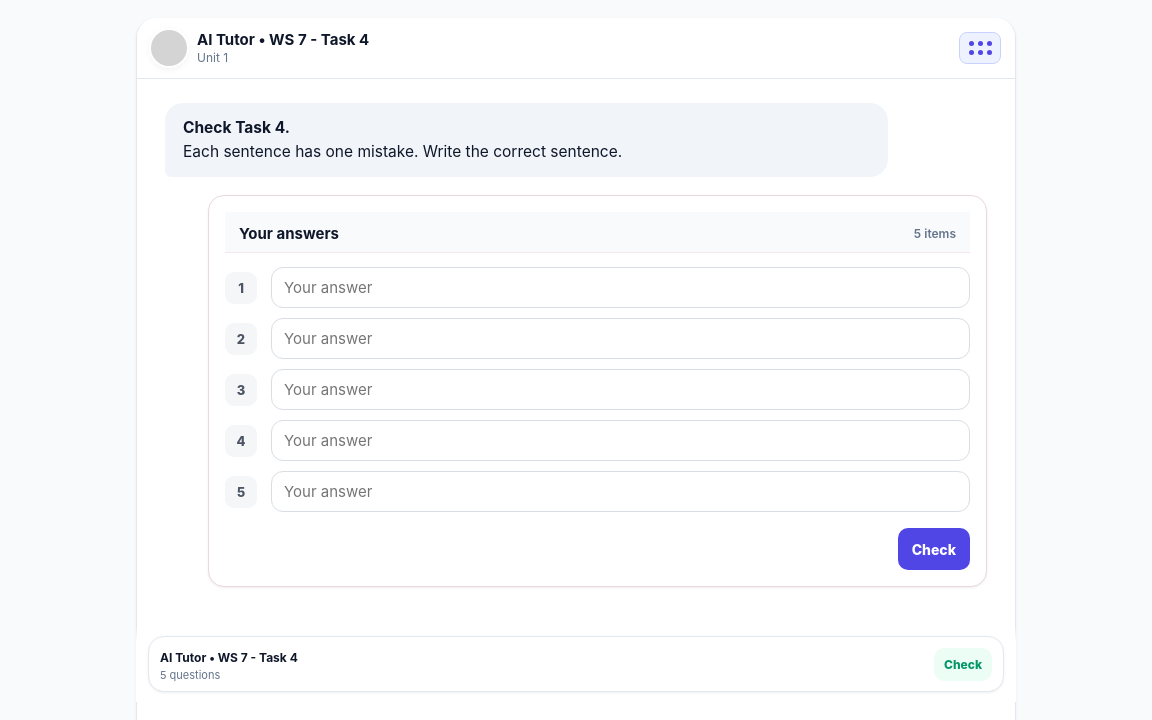
Test: Form 2 Fill rendering and letter/word answer support › grades Task 60174 correctly with punctuation, smart quotes, and time formats
This screenshot has width=1152, height=720.
Type "our lessons start at 7:15" into the 1st field with placeholder "Your answer".
click(620, 288); type("our lessons start at 7:15")  # box [271, 267, 970, 308]
(page scrolled)
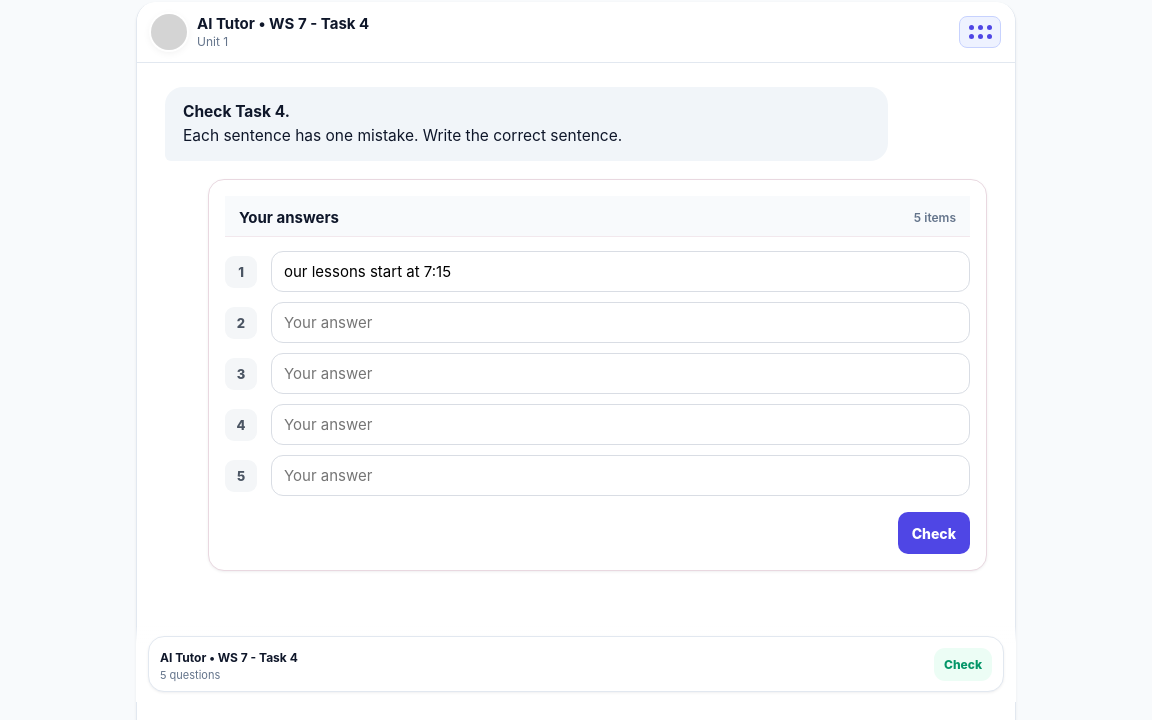
Type "Linh doesn’t go to school by bus" into the 1st field with placeholder "Your answer".
click(620, 322); type("Linh doesn’t go to school by bus")  # box [271, 302, 970, 343]
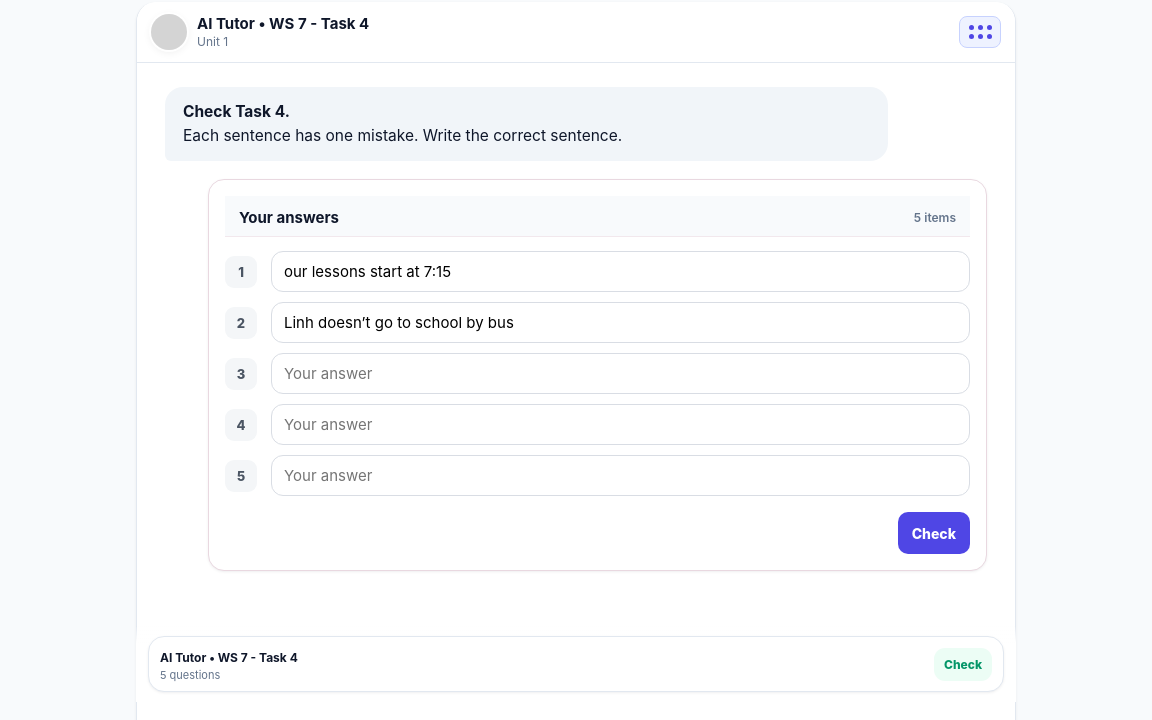
Type "Does Tom join the art club on Friday" into the 1st field with placeholder "Your answer".
click(620, 374); type("Does Tom join the art club on Friday")  # box [271, 353, 970, 394]
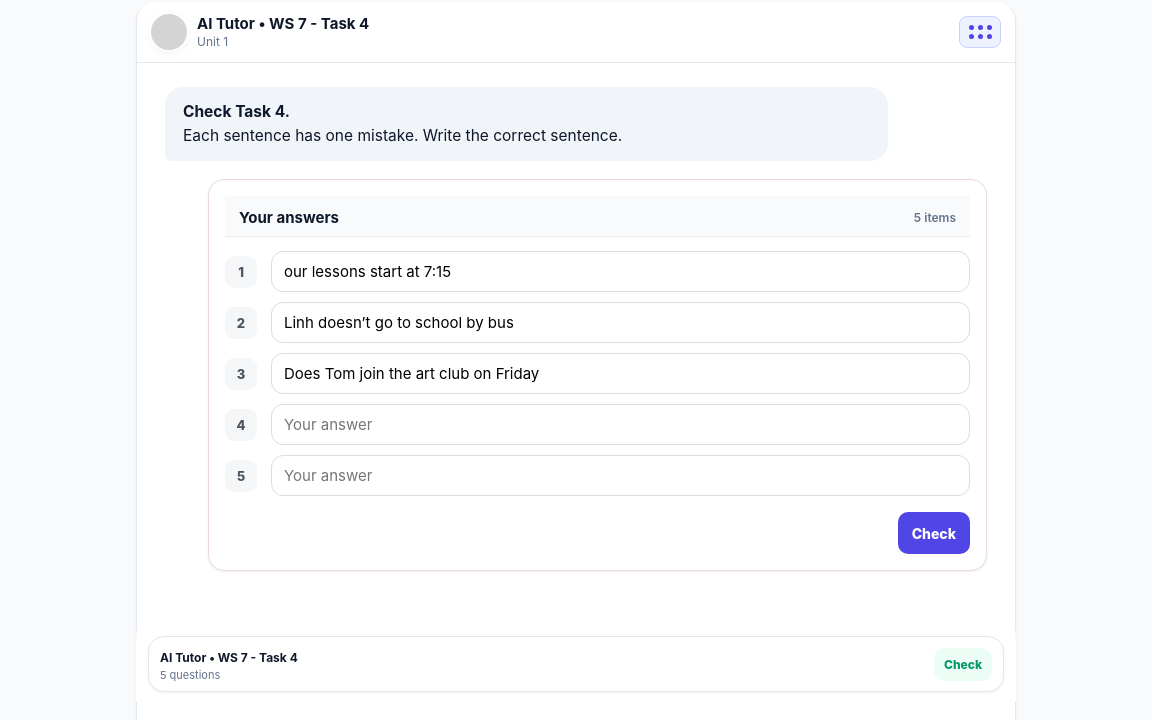
Type "  students  usually have lunch at school.  " into the 1st field with placeholder "Your answer".
click(620, 424); type("  students  usually have lunch at school.  ")  # box [271, 404, 970, 445]
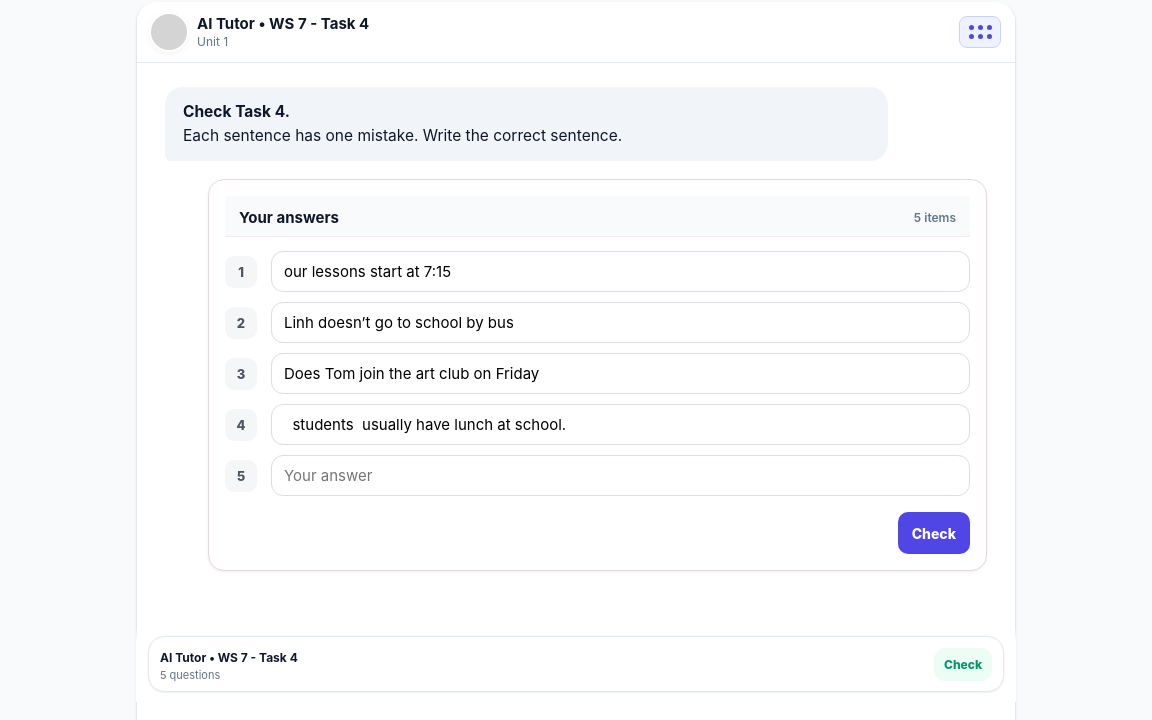
Type "The first lesson finishes at 8:15." into the field with placeholder "Your answer".
click(620, 476); type("The first lesson finishes at 8:15.")  # box [271, 455, 970, 496]
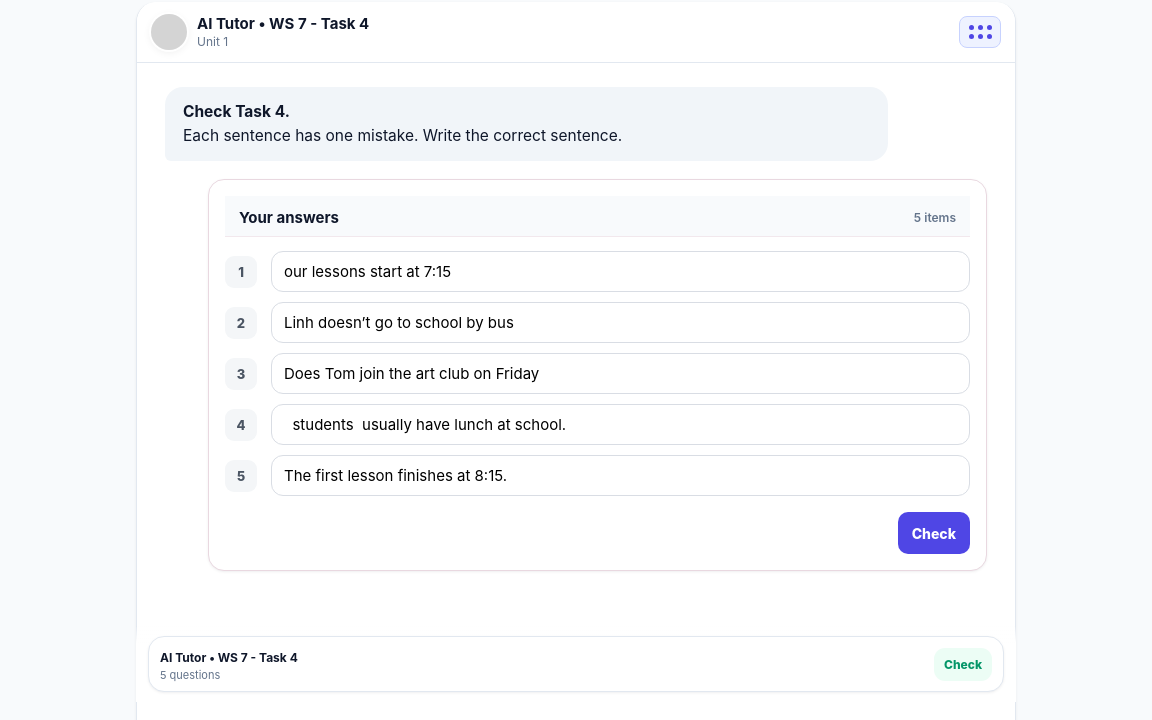
Click the button with id "initialCheckBtn".
click(934, 533)  # box [898, 512, 970, 554]
(page scrolled)
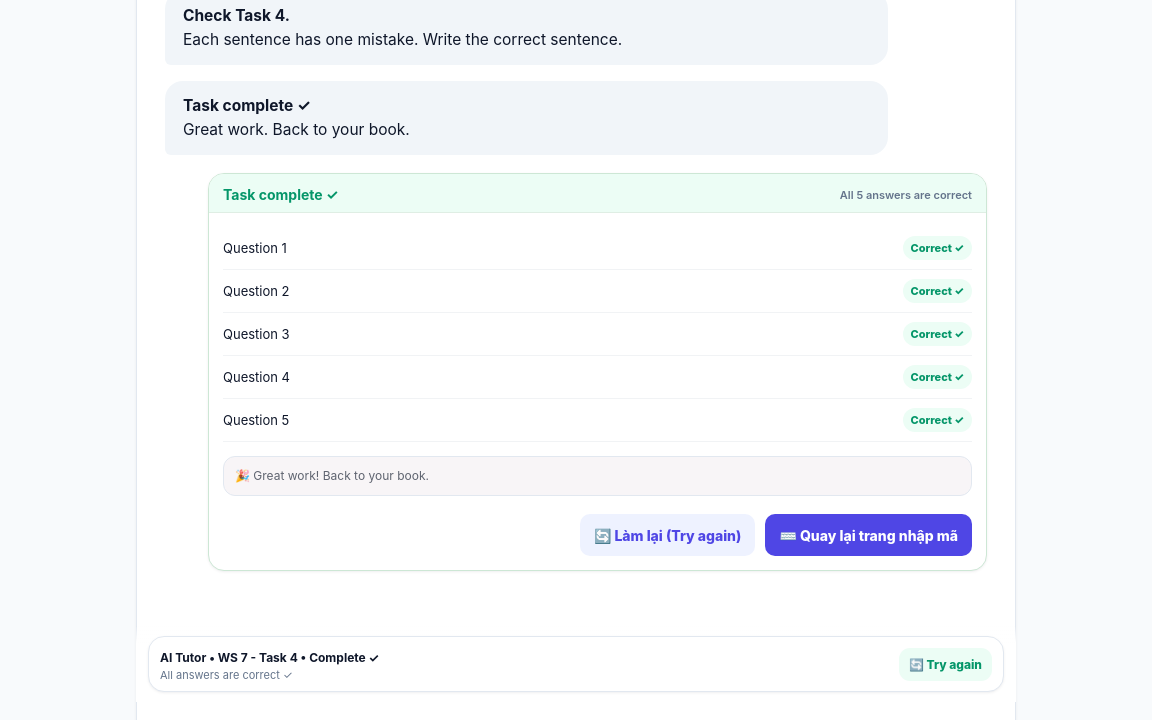
Now the text "Task complete ✓" is shown, box [183, 96, 311, 115]
